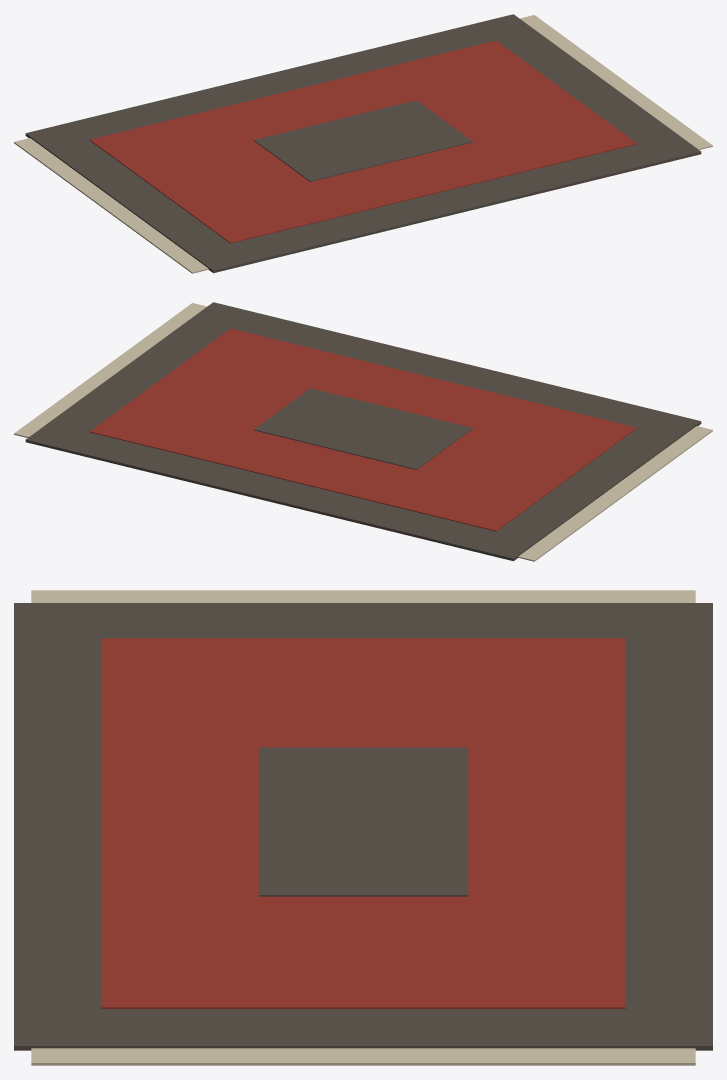
The model's file is rug-small.glb.
3 views of the same model, one above another, from view 1: azimuth 30°, elevation 25°; view 2: azimuth 150°, elevation 25°; view 3: azimuth 270°, elevation 25° (orthographic). The views are drawn at different scales.
Parts seen in each view (by area): view 1: accent-warm, fabric, paper; view 2: accent-warm, fabric, paper; view 3: accent-warm, fabric, paper.
Part boxes in pixels (x1,y1,x2,y2): accent-warm: [89, 40, 637, 243]; fabric: [25, 14, 701, 273]; paper: [14, 15, 712, 273]; accent-warm: [89, 328, 637, 531]; fabric: [25, 302, 701, 561]; paper: [14, 303, 712, 561]; accent-warm: [101, 638, 625, 1008]; fabric: [14, 603, 712, 1050]; paper: [31, 590, 695, 1065].
Size of the model in its own units: 1.28 by 0.01 by 0.8.
